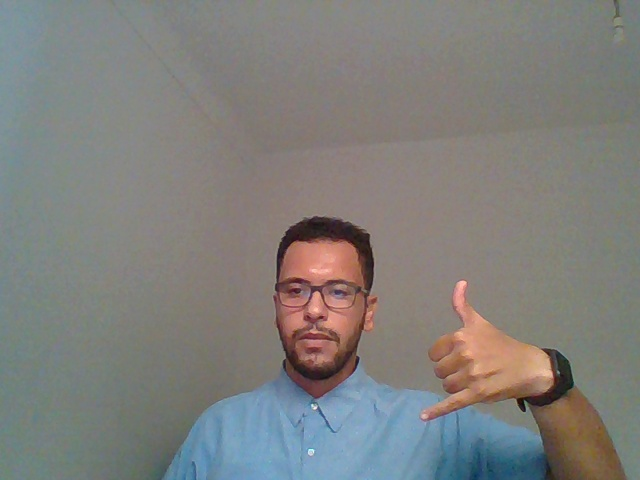callme: (395, 241, 588, 458)
